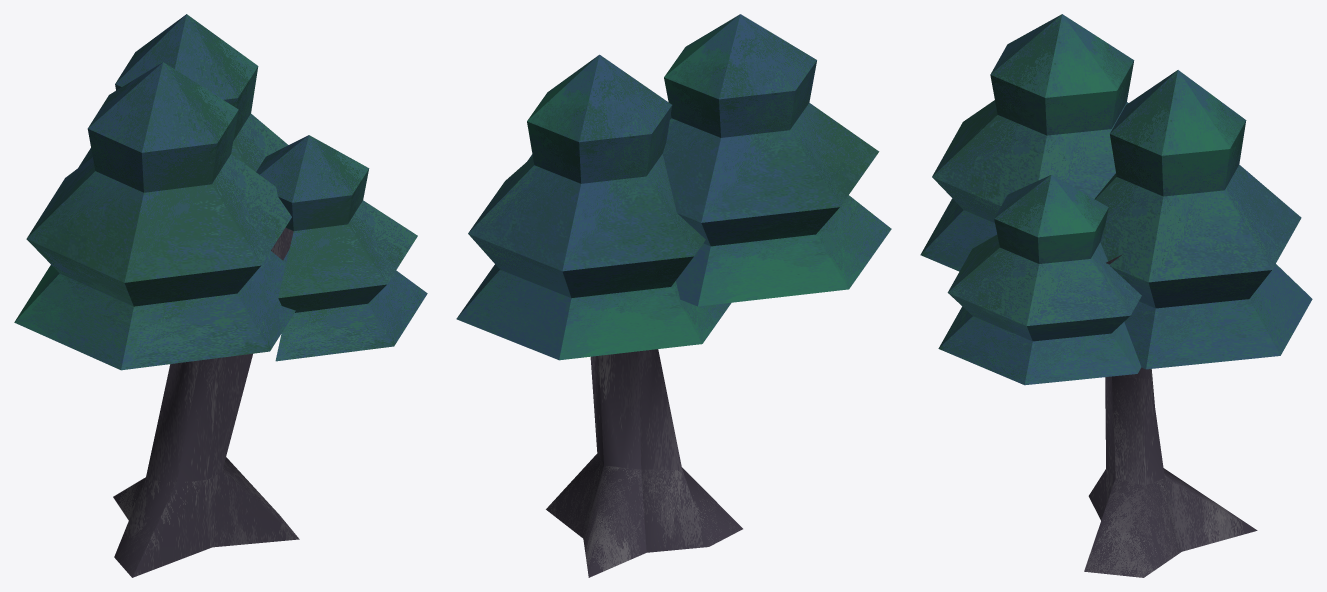
The model's file is Green_Pine_Tree.fbx.
3 renders of one model, left to right at view 1: azimuth 30°, elevation 25°; view 2: azimuth 150°, elevation 25°; view 3: azimuth 270°, elevation 25°, orthographic. The views are drawn at different scales.
Parts seen in each view (by area): view 1: pCube1; view 2: pCube1; view 3: pCube1.
Part boxes in pixels (box(x1,y1,x2,y2)): pCube1: box(14, 14, 427, 577); pCube1: box(456, 14, 891, 577); pCube1: box(920, 14, 1312, 577).
Bounding box in the file's own units: 414 × 552 × 399.
